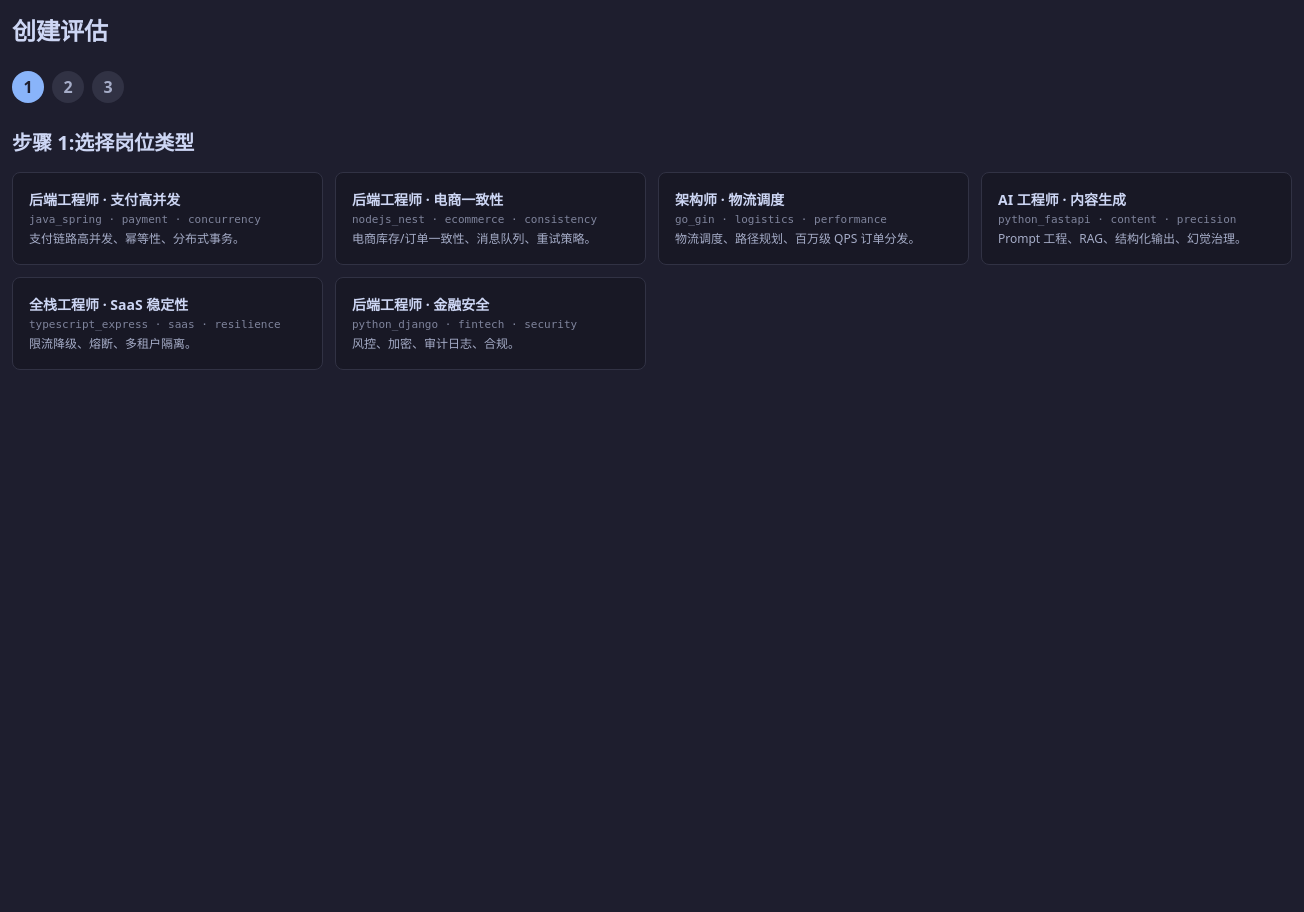
it: <AdminCreateSessionPage /> › step 3 loads exam instances matching the selected level
This screenshot has width=1304, height=912.
Click the button with test id "admin-create-step1-position-0" at (168, 218), box x1=12 y1=172 x2=323 y2=265
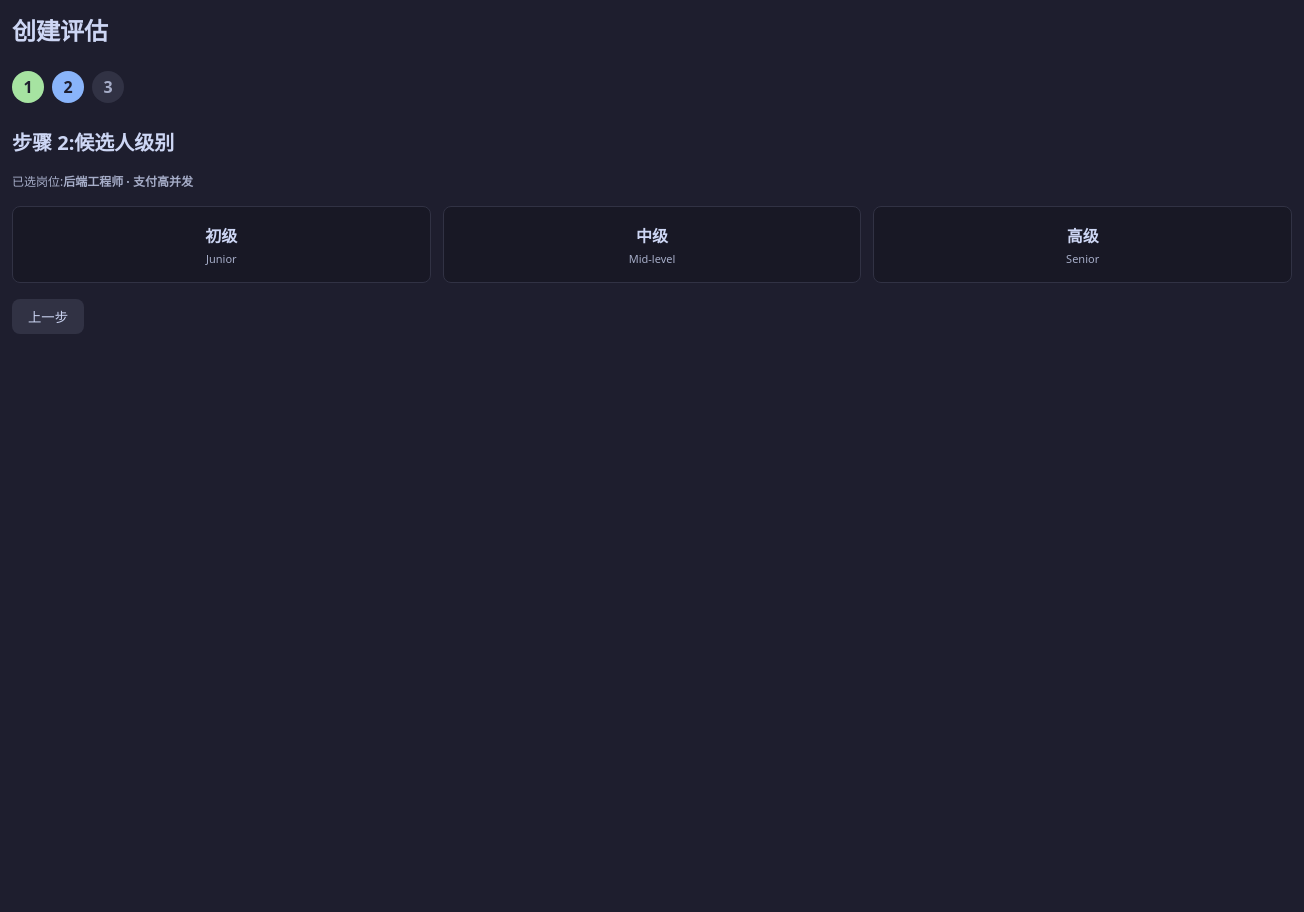
Click the button with test id "admin-create-step2-level-mid" at (652, 244), box x1=443 y1=206 x2=861 y2=283
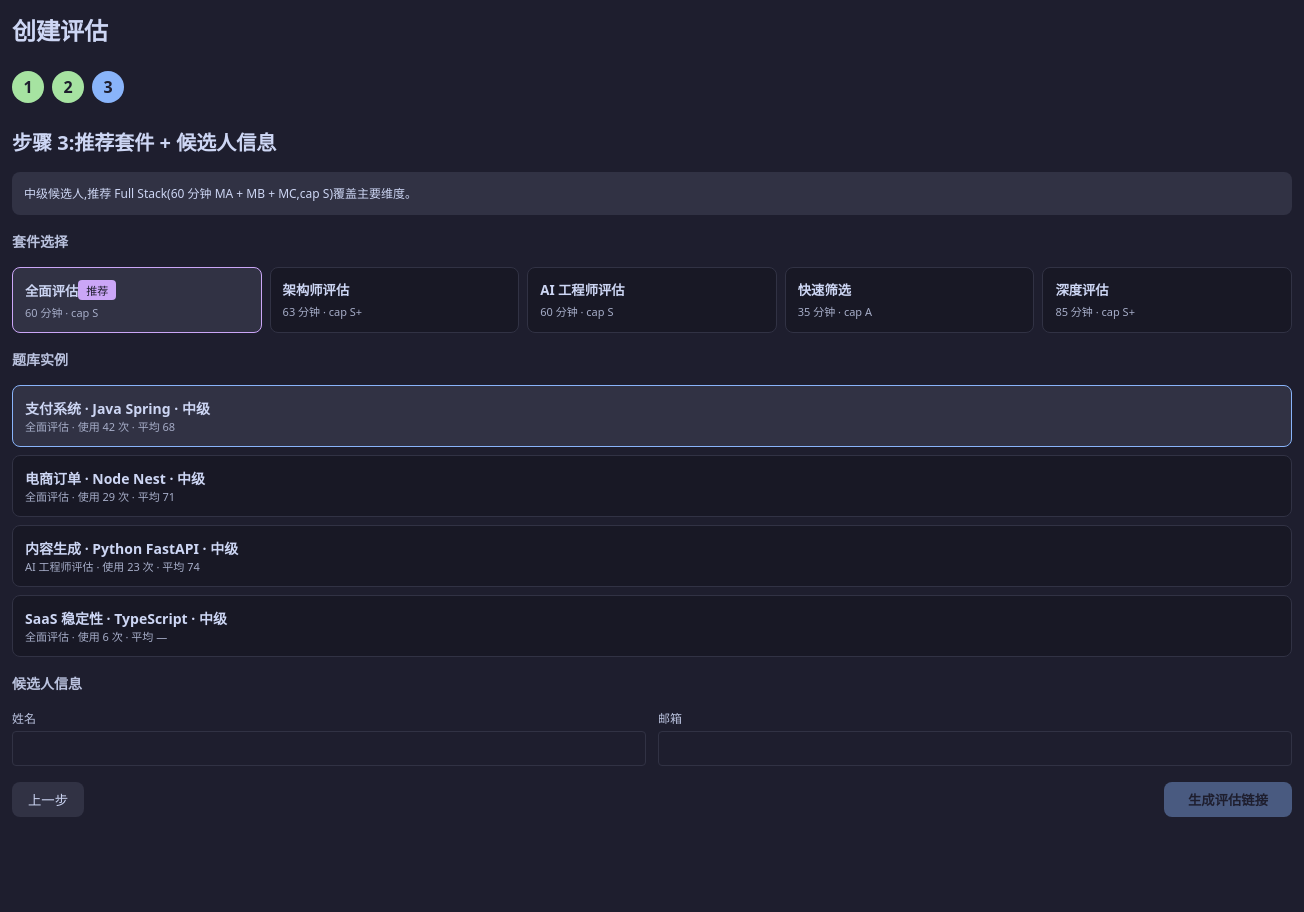
Now the element with test id "admin-create-step-3" is shown
Now the button with test id "admin-create-step3-exam-exam-java-payment-mid" is shown, box x1=12 y1=385 x2=1292 y2=447
